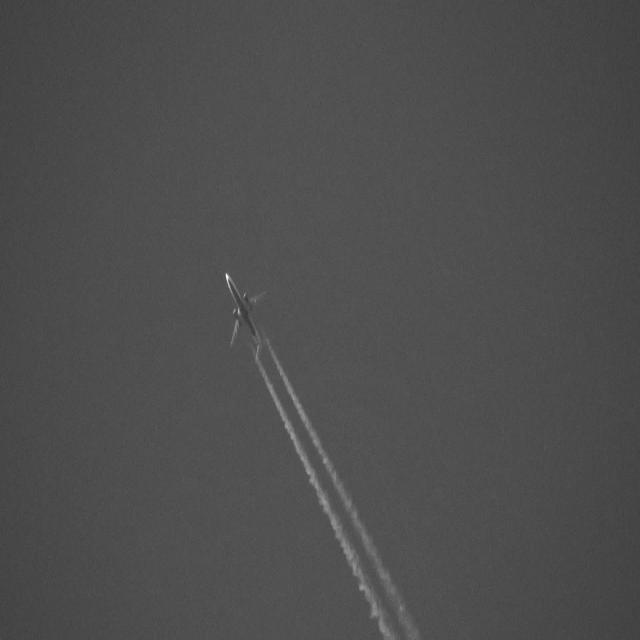aeroplane: (222, 264, 276, 370)
